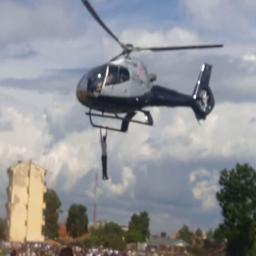helicopter: (75, 2, 225, 135)
